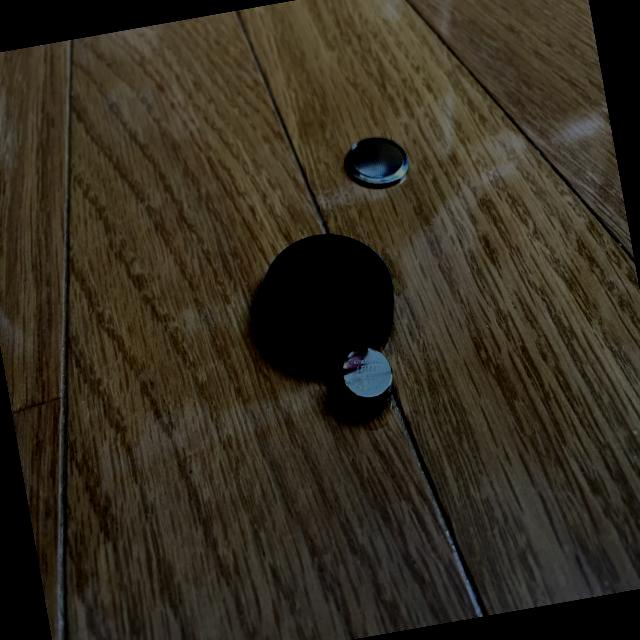COIN: (335, 341, 399, 416), (340, 132, 412, 192)
